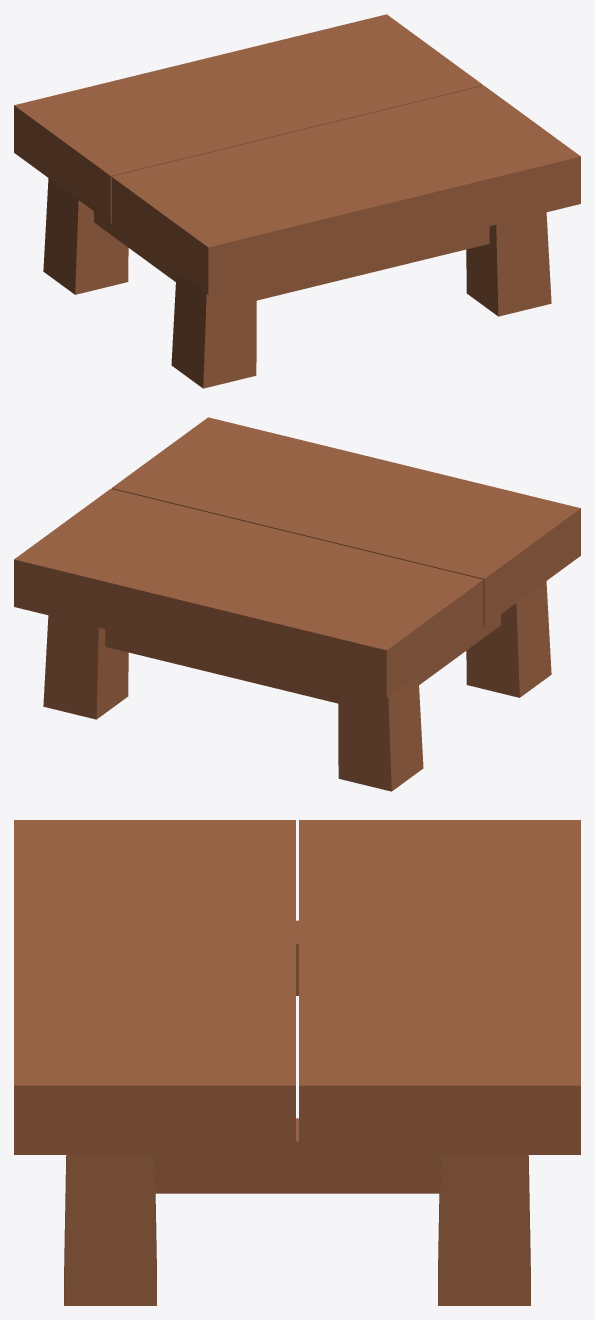
Rendered from table_short.obj.
3 renders of one model, top to bottom at view 1: azimuth 30°, elevation 25°; view 2: azimuth 150°, elevation 25°; view 3: azimuth 270°, elevation 25°, orthographic. The views are drawn at different scales.
Visible parts, largest first — view 1: table_short; view 2: table_short; view 3: table_short.
Boxes of the visible parts, left/top/right/bottom form: table_short: left=14, top=14, right=580, bottom=388; table_short: left=14, top=417, right=580, bottom=791; table_short: left=14, top=820, right=580, bottom=1305.
Bounding box in the file's own units: 0.2951 × 0.1186 × 0.2663.
